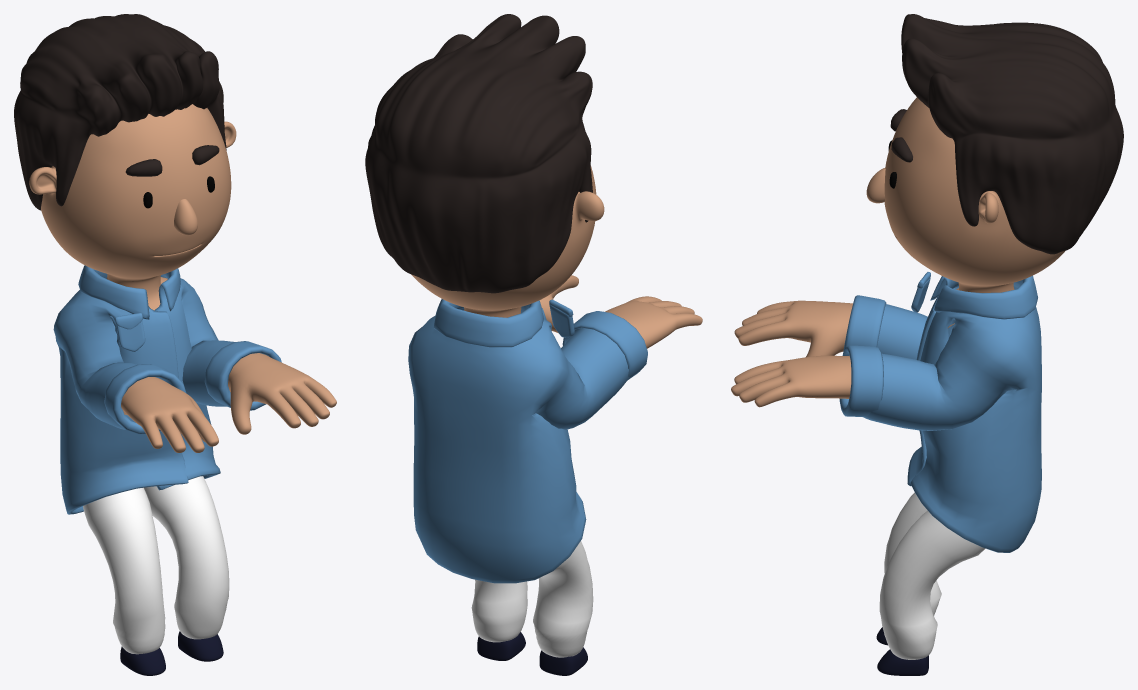
3 renders of one model, left to right at view 1: azimuth 30°, elevation 25°; view 2: azimuth 150°, elevation 25°; view 3: azimuth 270°, elevation 25°, orthographic. The views are drawn at different scales.
Parts seen in each view (by area): view 1: body.003, Shirt.001, Hair_3, Cube.016, Cube.015, Cube.018, Cube.017, Eyebrow.003, nose.003; view 2: Hair_3, Shirt.001, body.003, Cube.016, Cube.015, Cube.018, Cube.017; view 3: Shirt.001, Hair_3, body.003, Cube.015, Cube.016, Cube.018.
Part boxes in pixels (x1=…): body.003: x1=29, y1=104, x2=336, y2=452; Shirt.001: x1=53, y1=265, x2=281, y2=514; Hair_3: x1=14, y1=14, x2=226, y2=210; Cube.016: x1=83, y1=487, x2=165, y2=654; Cube.015: x1=144, y1=476, x2=229, y2=639; Cube.018: x1=178, y1=631, x2=223, y2=661; Cube.017: x1=120, y1=646, x2=165, y2=675; Eyebrow.003: x1=125, y1=145, x2=219, y2=176; nose.003: x1=174, y1=199, x2=197, y2=235; Hair_3: x1=365, y1=14, x2=592, y2=293; Shirt.001: x1=408, y1=299, x2=647, y2=583; body.003: x1=411, y1=165, x2=702, y2=348; Cube.016: x1=533, y1=541, x2=593, y2=657; Cube.015: x1=471, y1=579, x2=527, y2=642; Cube.018: x1=477, y1=632, x2=525, y2=660; Cube.017: x1=539, y1=647, x2=587, y2=675; Shirt.001: x1=839, y1=272, x2=1041, y2=552; Hair_3: x1=901, y1=14, x2=1123, y2=254; body.003: x1=731, y1=97, x2=1065, y2=407; Cube.015: x1=879, y1=510, x2=985, y2=659; Cube.016: x1=884, y1=492, x2=941, y2=615; Cube.018: x1=877, y1=649, x2=928, y2=675.
Size of the model in its own units: 4.25 by 11.89 by 6.69.
